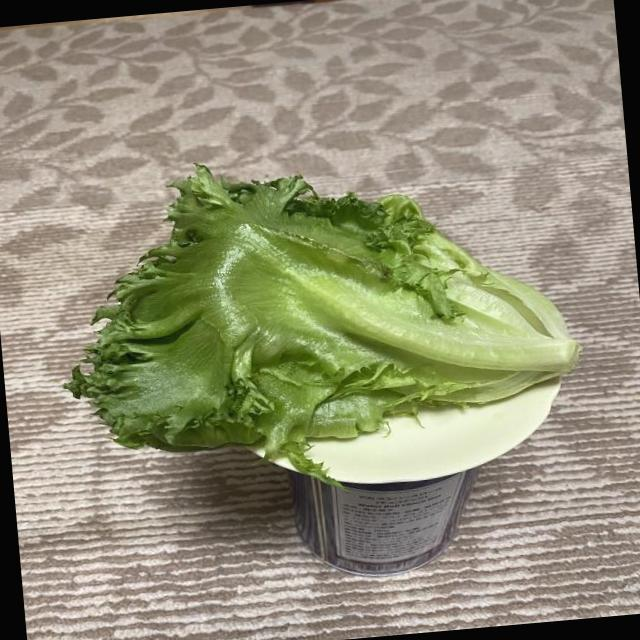Lettuce-Ready-to-Harvest: (66, 165, 578, 478)
